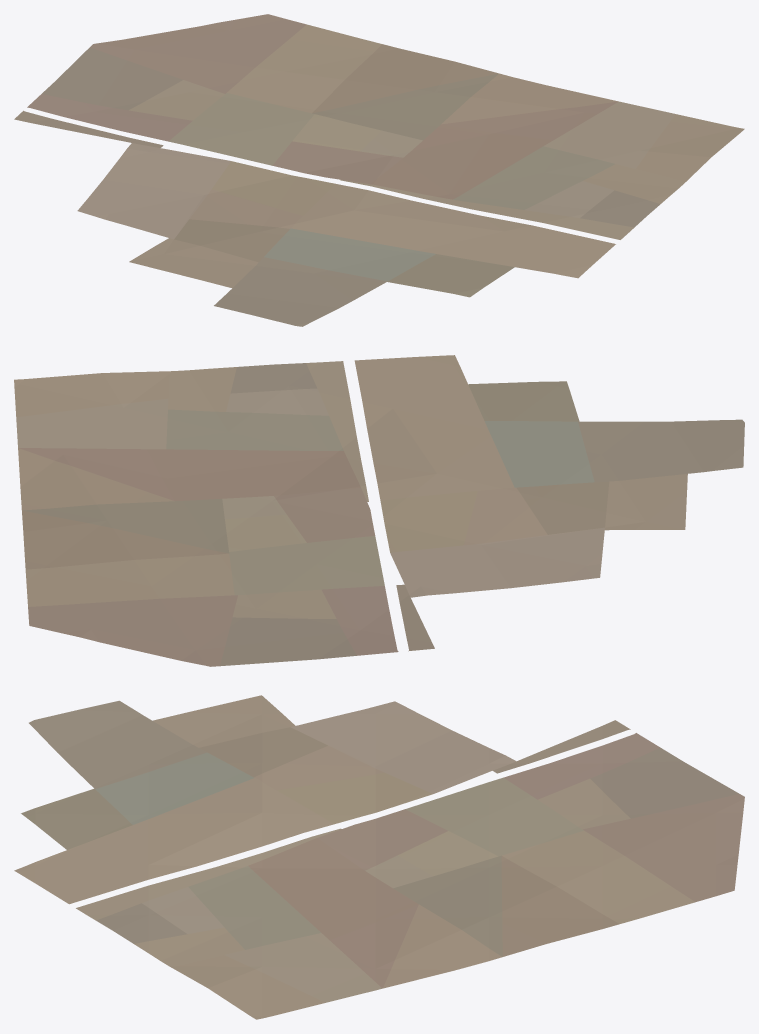
File: farm_8_7_soil.glb
3 views of the same model, one above another, from view 1: azimuth 30°, elevation 25°; view 2: azimuth 150°, elevation 25°; view 3: azimuth 270°, elevation 25° (orthographic). The views are drawn at different scales.
Parts seen in each view (by area): view 1: geometry_0; view 2: geometry_0; view 3: geometry_0.
Boxes of the visible parts, x1,y1,x2,y2 form: geometry_0: [14, 14, 744, 326]; geometry_0: [14, 355, 744, 666]; geometry_0: [14, 695, 744, 1019].
Size of the model in its own units: 516 by 16.25 by 516.
